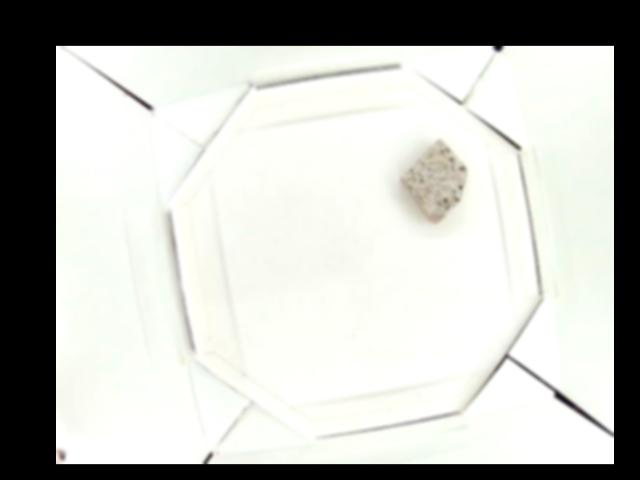China: (401, 139, 467, 224)
